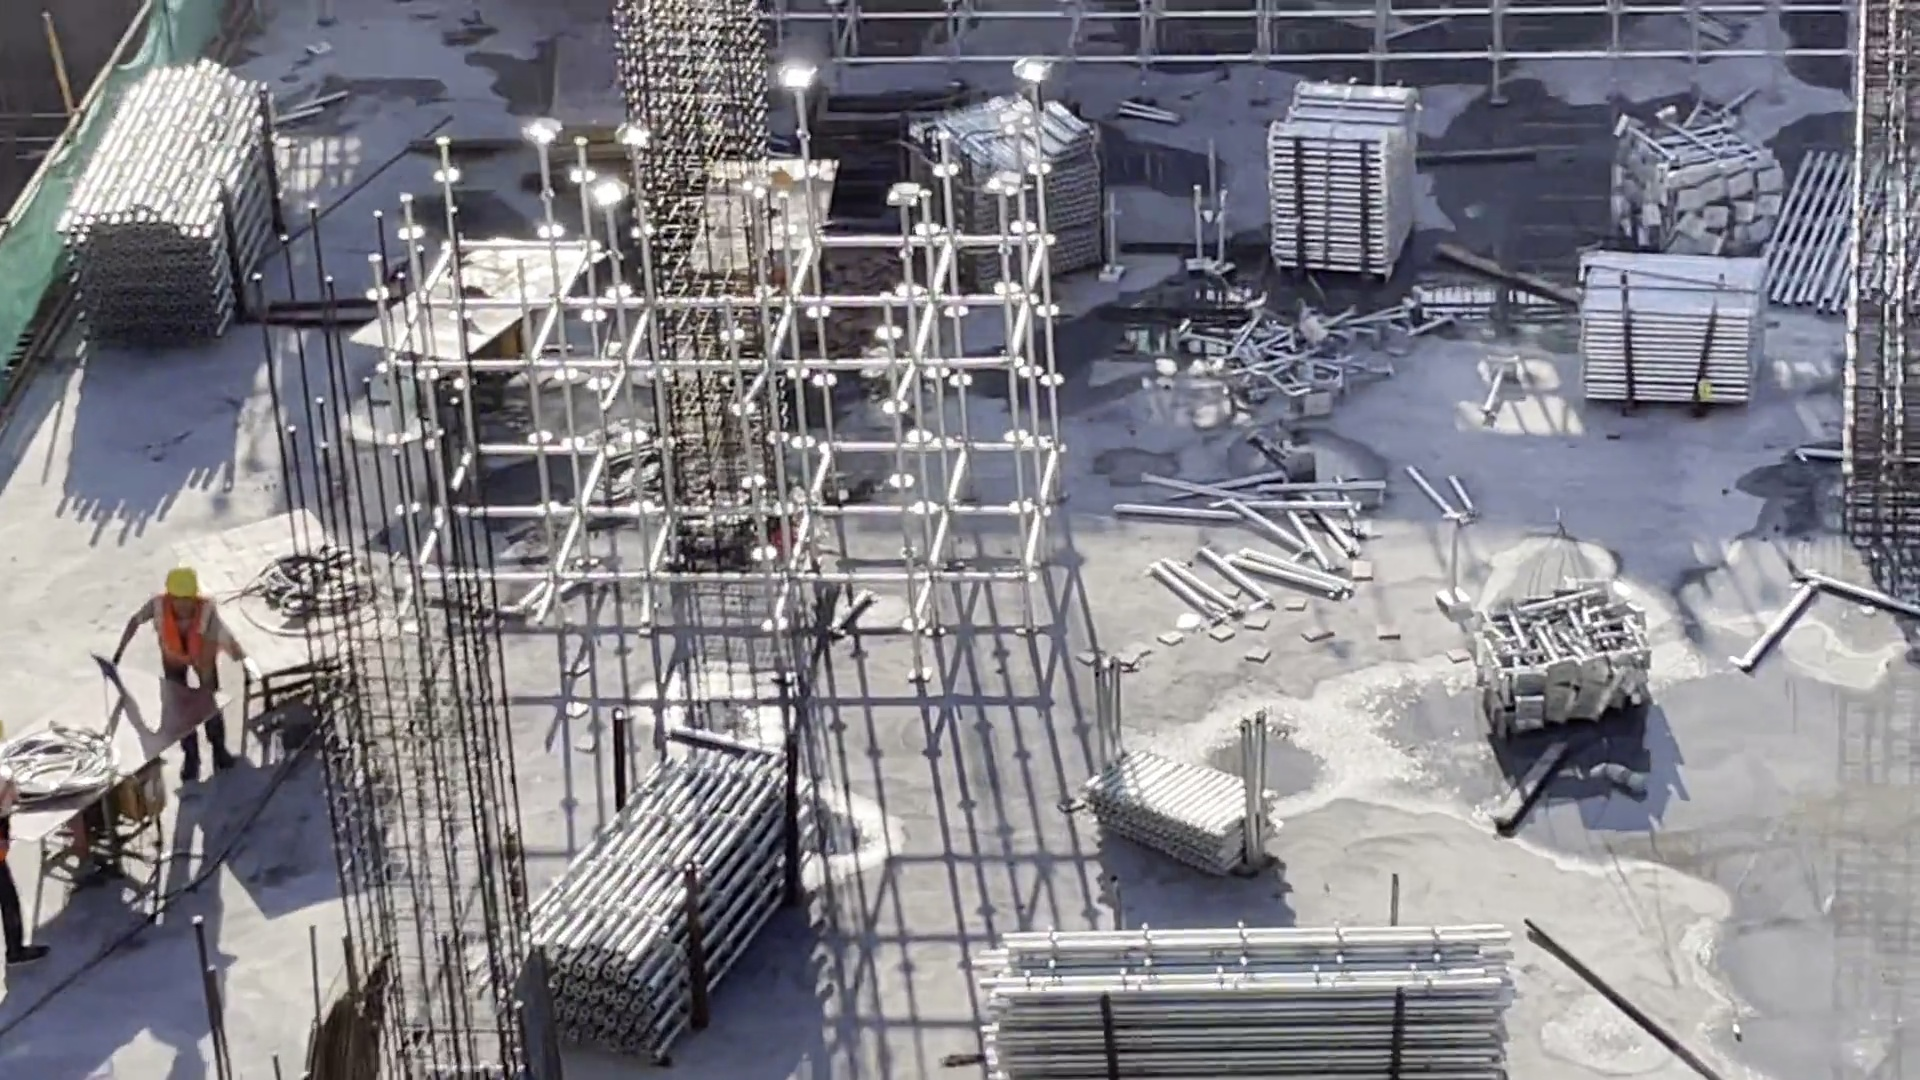board: (296, 956, 396, 1080)
cutter: (159, 522, 422, 750), (4, 676, 243, 919), (355, 228, 584, 452), (681, 153, 848, 348)
helmet: (158, 561, 212, 604)
person: (138, 569, 249, 771)
scaffold: (976, 924, 1545, 1074), (540, 735, 780, 1055), (64, 74, 259, 357), (916, 103, 1125, 297), (1263, 78, 1434, 293), (1562, 259, 1778, 413), (1619, 113, 1814, 250), (1481, 594, 1638, 754), (1094, 735, 1242, 875), (1204, 327, 1402, 416)
vest: (154, 606, 207, 674)
